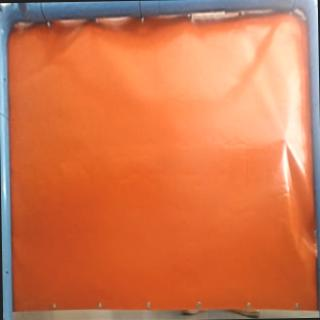Hit-hRxx: (278, 133, 294, 147)
